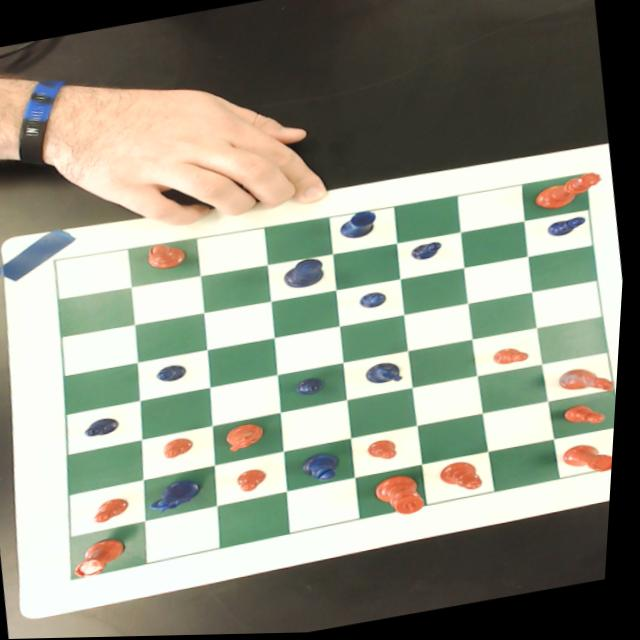B: (304, 452, 350, 485)
K: (283, 257, 331, 292)
N: (152, 473, 221, 515), (364, 360, 411, 391)
P: (549, 217, 592, 240), (88, 415, 128, 439), (413, 241, 448, 263), (299, 376, 332, 399), (158, 363, 192, 384), (361, 290, 392, 311)
R: (338, 210, 381, 242)
b: (444, 460, 492, 496), (147, 239, 190, 272)
k: (378, 472, 434, 520)
n: (560, 363, 623, 403), (228, 421, 274, 454)
p: (565, 402, 613, 431), (97, 495, 139, 524), (239, 467, 277, 494), (166, 435, 203, 460), (371, 438, 406, 464), (496, 346, 535, 369)
q: (533, 173, 609, 215)
r: (75, 535, 137, 581), (562, 441, 619, 482)
